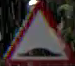Speed Breaker ahead: (5, 2, 74, 65)
